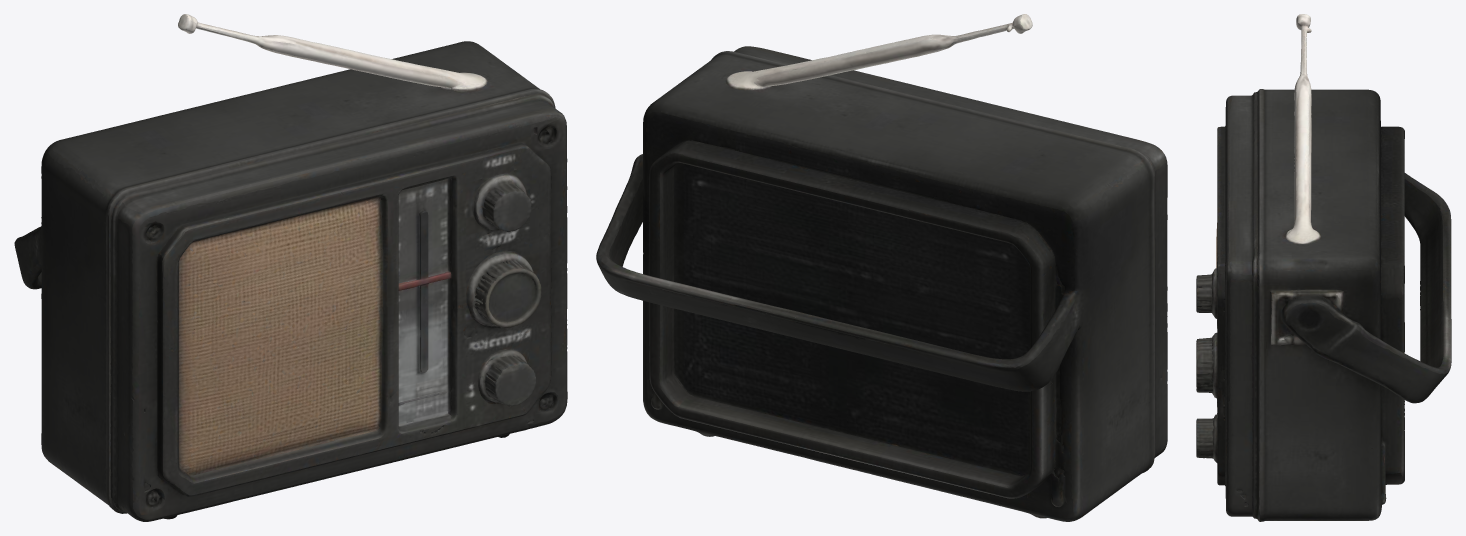
File: model-slim.glb
The picture shows the model from 3 angles, left to right: view 1: azimuth 30°, elevation 25°; view 2: azimuth 150°, elevation 25°; view 3: azimuth 270°, elevation 25°; orthographic projection. The views are drawn at different scales.
Size of the model in its own units: 0.23 by 0.2182 by 0.1324.
Materials: 1 (1 with a texture image).
